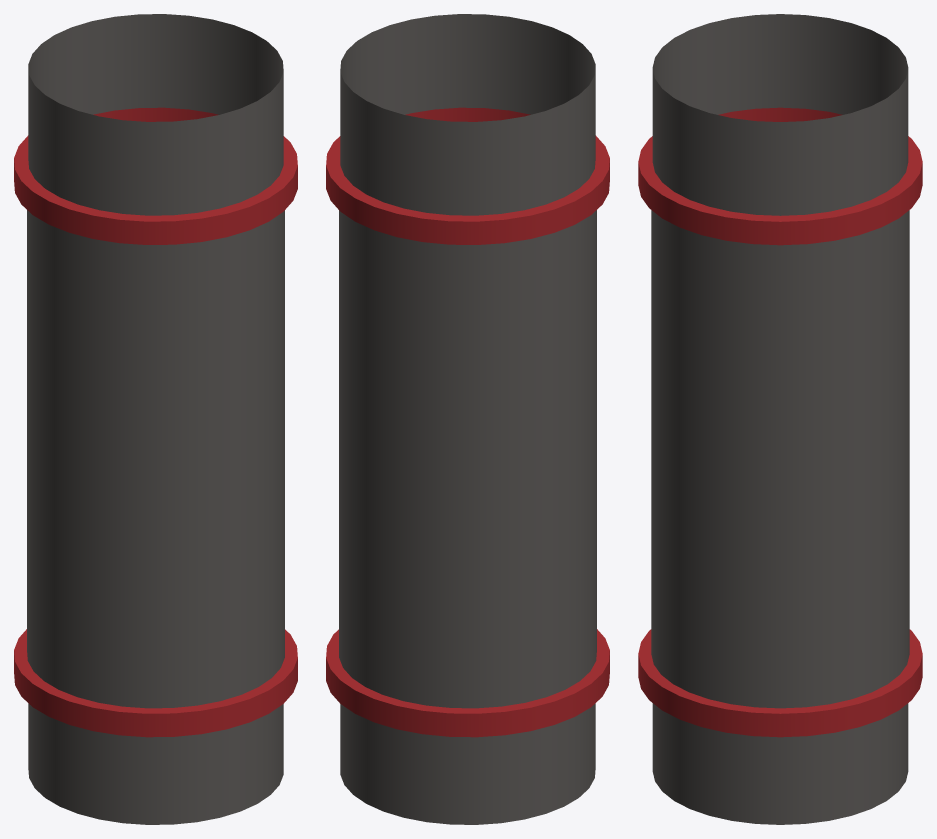
The model's file is Pipes.fbx.
The picture shows the model from 3 angles, left to right: view 1: azimuth 30°, elevation 25°; view 2: azimuth 150°, elevation 25°; view 3: azimuth 270°, elevation 25°; orthographic projection.
Parts seen in each view (by area): view 1: Cylinder; view 2: Cylinder; view 3: Cylinder.
Boxes of the visible parts, x1=… form: Cylinder: x1=14, y1=14, x2=297, y2=824; Cylinder: x1=326, y1=14, x2=609, y2=824; Cylinder: x1=638, y1=14, x2=922, y2=824.
Bounding box in the file's own units: 220 × 600 × 220.
